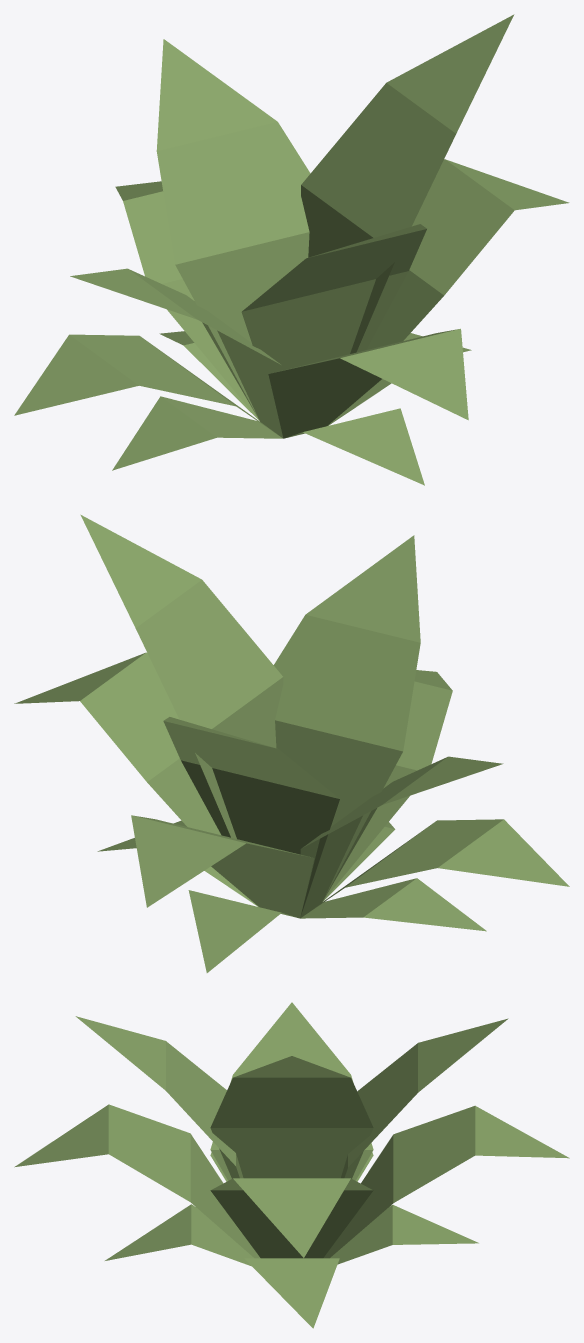
The model's file is K_Bush.glb.
3 renders of one model, top to bottom at view 1: azimuth 30°, elevation 25°; view 2: azimuth 150°, elevation 25°; view 3: azimuth 270°, elevation 25°, orthographic. The views are drawn at different scales.
Parts seen in each view (by area): view 1: K_Bush; view 2: K_Bush; view 3: K_Bush.
Boxes of the visible parts, x1=… form: K_Bush: x1=14, y1=14, x2=569, y2=485; K_Bush: x1=14, y1=514, x2=569, y2=972; K_Bush: x1=14, y1=1002, x2=569, y2=1328.
Bounding box in the file's own units: 1.81 × 1.08 × 1.81.
